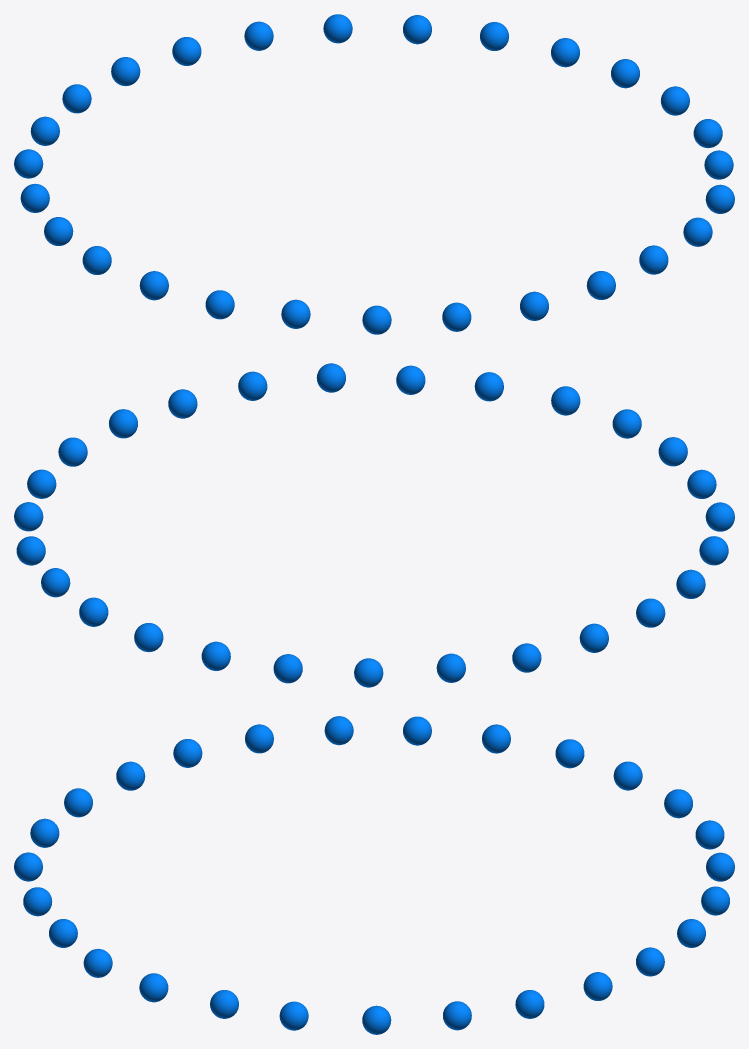
3 views of the same model, one above another, from view 1: azimuth 30°, elevation 25°; view 2: azimuth 150°, elevation 25°; view 3: azimuth 270°, elevation 25° (orthographic).
Parts seen in each view (by area): view 1: Sphere052; view 2: Sphere052; view 3: Sphere052.
Boxes of the visible parts, x1,y1,x2,y2 form: Sphere052: (14, 14, 734, 334); Sphere052: (14, 363, 734, 687); Sphere052: (14, 716, 734, 1034).
Size of the model in its own units: 202 by 8.22 by 204.
